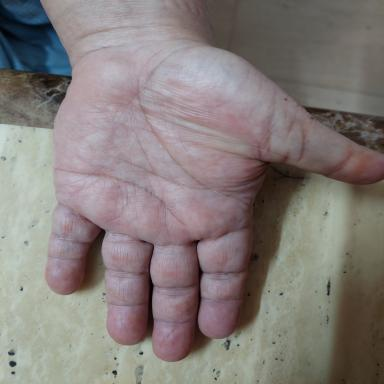normal skin: (41, 0, 383, 361)
